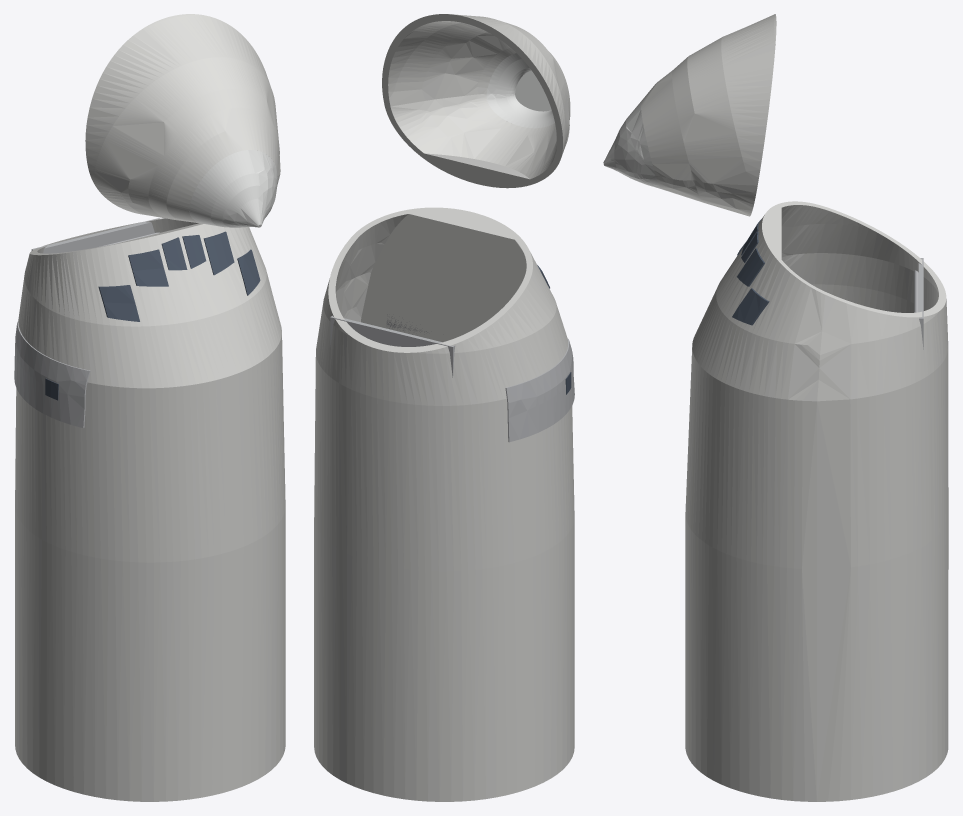
File: cockpit03_airliner_flight_deck_open.glb
The picture shows the model from 3 angles, left to right: view 1: azimuth 30°, elevation 25°; view 2: azimuth 150°, elevation 25°; view 3: azimuth 270°, elevation 25°; orthographic projection. The views are drawn at different scales.
Visible parts, largest first — view 1: fuselage, nose_visor, radome, flight_deck_windows, crew_door, cargo_floor_rollers; view 2: fuselage, nose_visor, crew_door, radome, cargo_floor_rollers; view 3: fuselage, nose_visor, radome, flight_deck_windows.
Part boxes in pixels (left/top/right/bottom): fuselage: left=15, top=218, right=285, bottom=801; nose_visor: left=85, top=14, right=280, bottom=223; radome: left=189, top=150, right=277, bottom=227; flight_deck_windows: left=45, top=231, right=260, bottom=400; crew_door: left=14, top=321, right=90, bottom=428; cargo_floor_rollers: left=31, top=218, right=159, bottom=253; fuselage: left=314, top=207, right=574, bottom=801; nose_visor: left=382, top=14, right=570, bottom=188; crew_door: left=505, top=339, right=574, bottom=442; radome: left=486, top=53, right=554, bottom=128; cargo_floor_rollers: left=330, top=315, right=455, bottom=377; fuselage: left=685, top=201, right=948, bottom=801; nose_visor: left=641, top=14, right=776, bottom=216; radome: left=603, top=102, right=660, bottom=188; flight_deck_windows: left=732, top=219, right=769, bottom=325.
Bounding box in the file's own units: 3.76 × 11.37 × 4.92.
